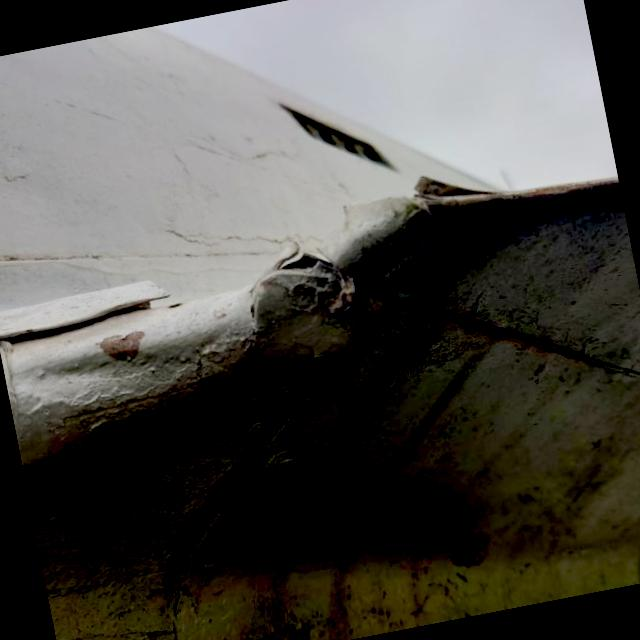crack: (379, 140, 518, 242), (260, 216, 351, 298)
